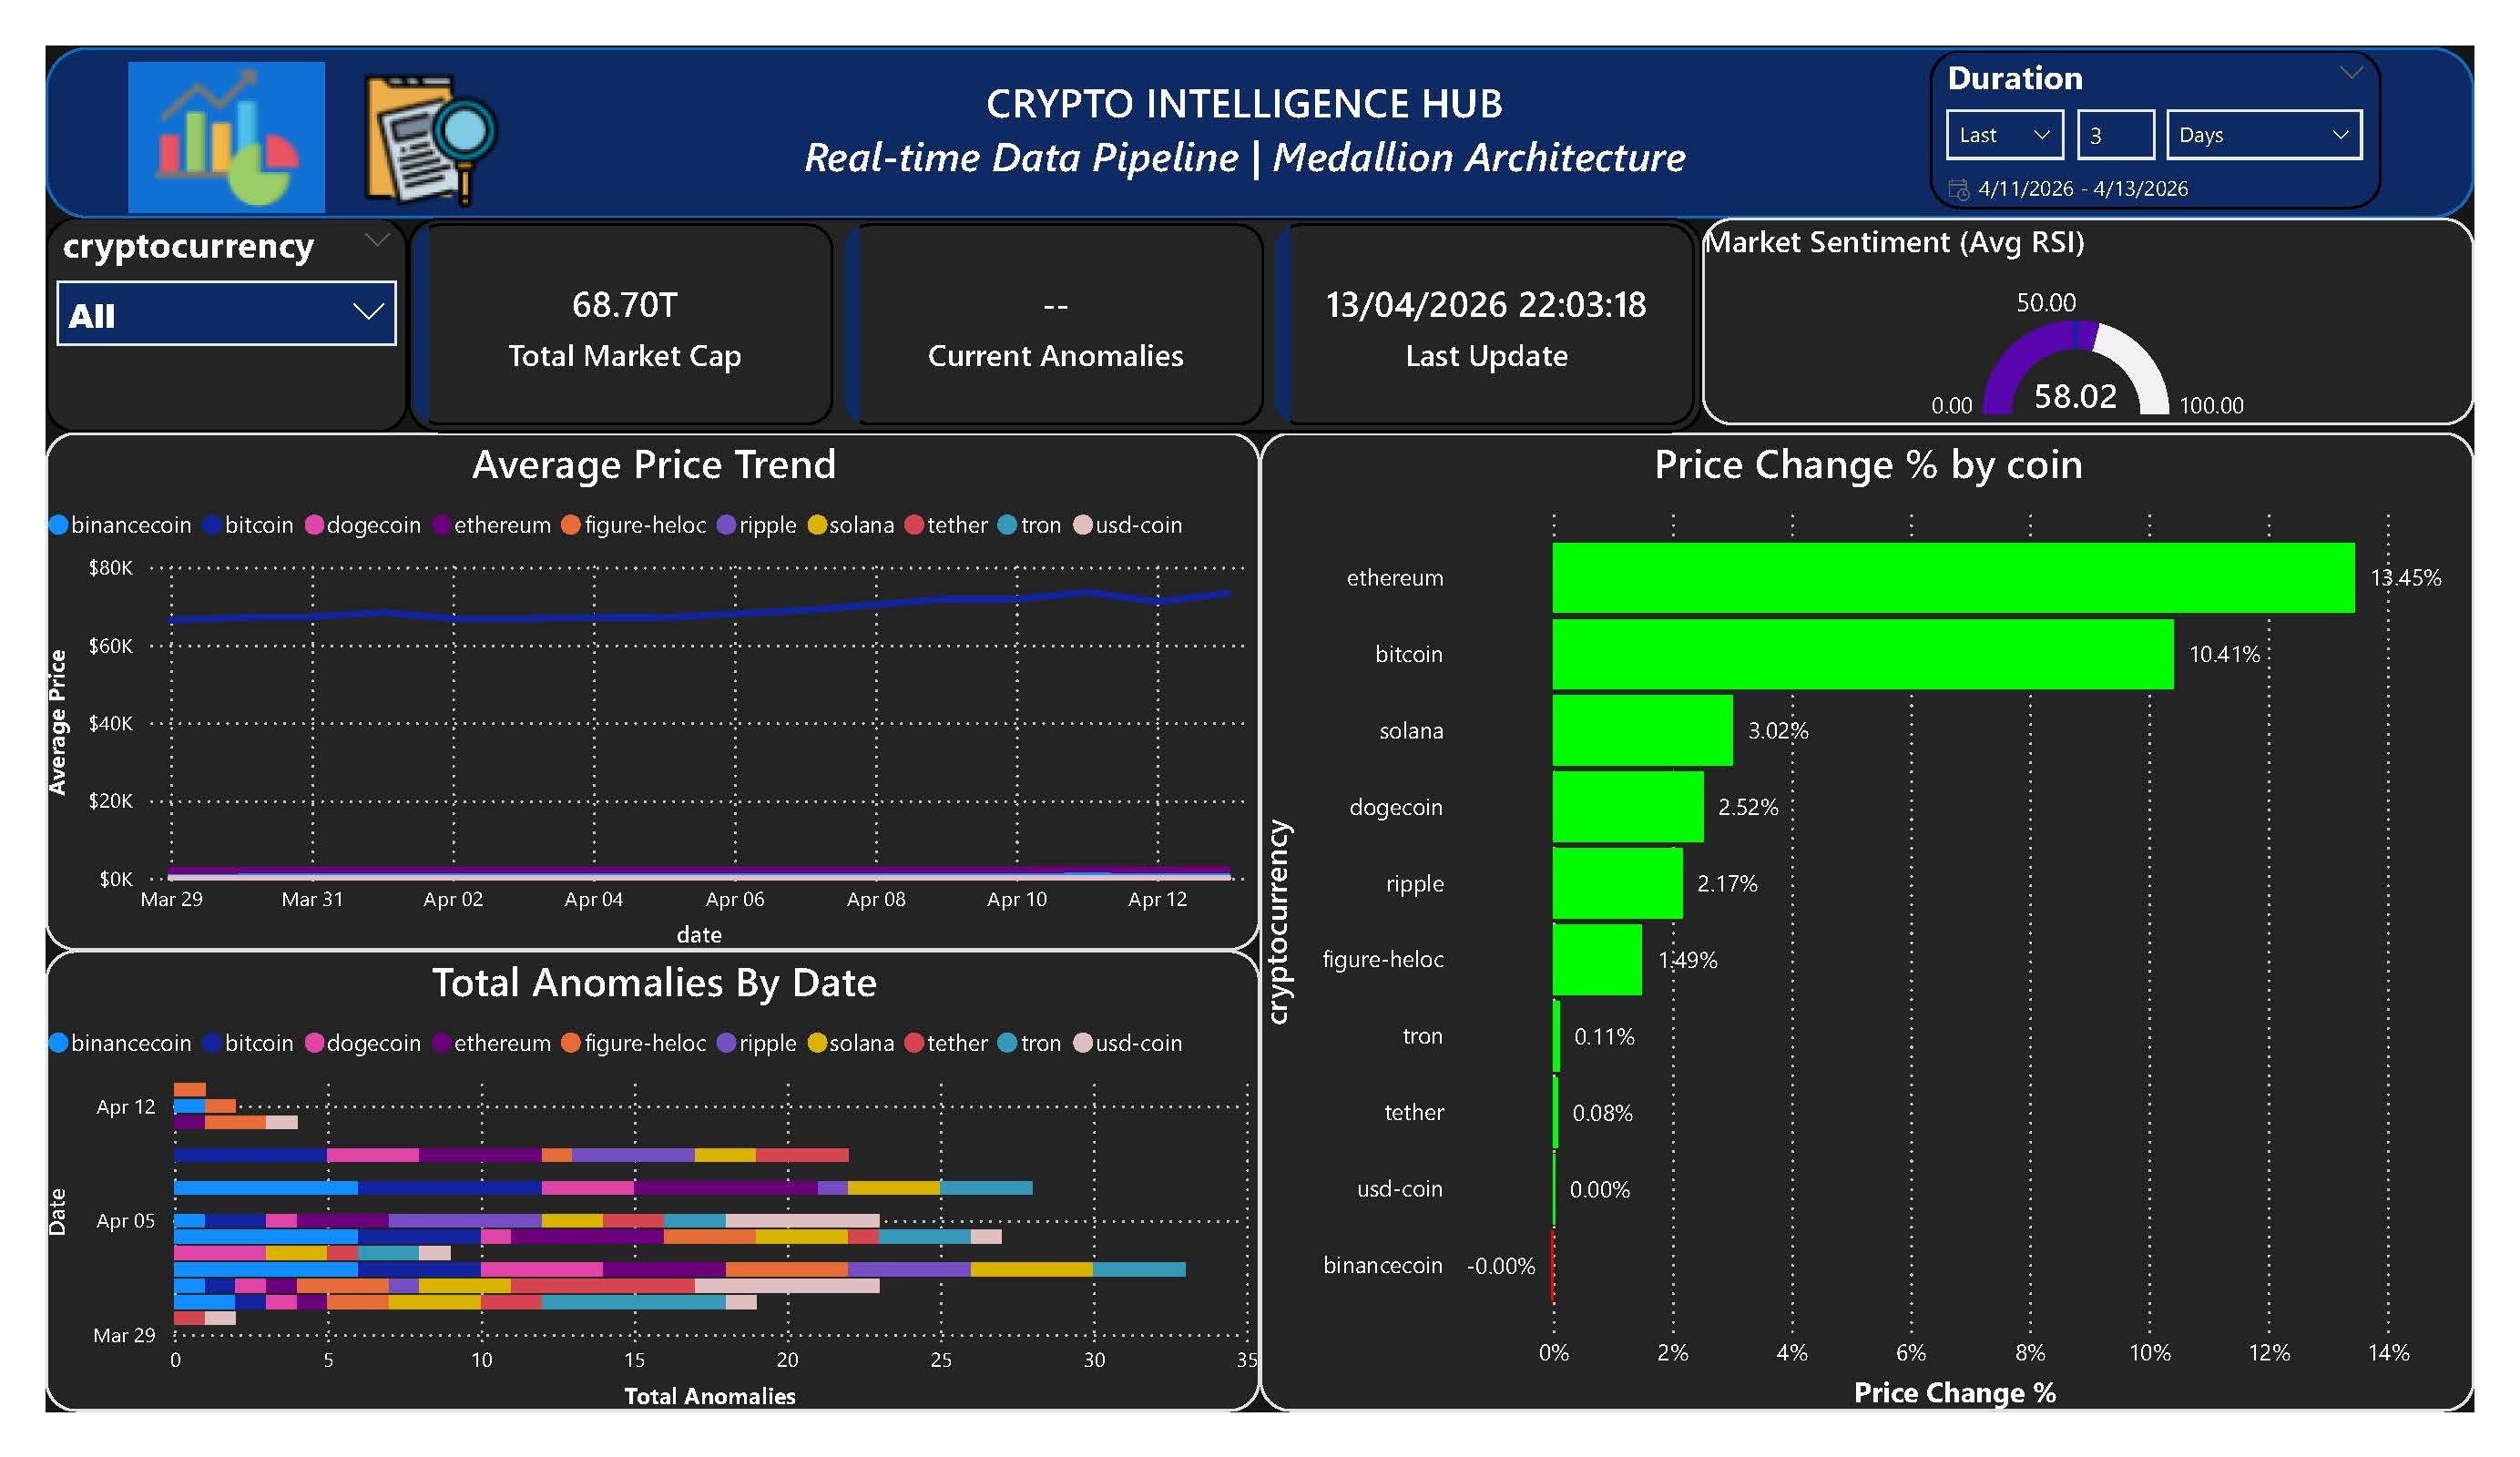

This screenshot's page, from the dashboard's own definition file:
{"tool":"powerbi","page":{"name":"Page 1","canvas":[1280,720],"ordinal":0},"visuals":[{"type":"slicer","fields":{"Values":["public dim_crypto_prices.coin"]},"box":[0,91.4,191.4,112.9],"z":0},{"type":"lineChart","title":"Average Price Trend","fields":{"Category":["public gold_fact_daily_summary.date"],"Y":["Sum(public gold_fact_daily_summary.avg_price)"],"Series":["public gold_fact_daily_summary.coin"]},"box":[0,204.3,640,272.9],"z":1000},{"type":"barChart","title":"Total Anomalies By Date","fields":{"Y":["Sum(public gold_fact_daily_summary.total_anomalies)"],"Category":["public gold_fact_daily_summary.date"],"Series":["public gold_fact_daily_summary.coin"]},"box":[0,477.1,640,242.9],"z":2000},{"type":"shape","box":[0,1.4,1280,90],"z":3000},{"type":"textbox","box":[354.3,10,555.7,72.9],"z":4000},{"type":"slicer","title":"Duration","fields":{"Values":["public gold_fact_signals.timestamp"]},"box":[992.9,2.9,238.6,82.9],"z":5000},{"type":"clusteredBarChart","fields":{"Category":["public gold_fact_daily_summary.coin"],"Y":["public gold_fact_daily_summary.Price Change %"]},"box":[640,204.3,640,515.7],"z":6000},{"type":"gauge","title":"Market Sentiment (Avg RSI) ","fields":{"Y":["Avg(public gold_fact_signals.rsi)"]},"box":[872.9,91.4,407.1,108.6],"z":7000},{"type":"cardVisual","fields":{"Data":["public dim_crypto_prices.Total Market Cap","public gold_fact_signals.Active Alerts","public gold_fact_signals.Last Update"]},"box":[191.4,91.4,681.4,112.9],"z":8000},{"type":"actionButton","box":[43.9,8.5,103.5,79.4],"z":9000},{"type":"actionButton","box":[161.6,12.8,82.2,75.1],"z":10000}]}

Visuals, with their boxes on the page's 1280x720 design canvas (x1, y1, x2, y2). These are canvas units, not pixel positions in the 2520x1457 screenshot, which may show the page scaled, cropped or inside an application window:
slicer - public dim_crypto_prices.coin: l=0, t=91, r=191, b=204
"Average Price Trend" lineChart: l=0, t=204, r=640, b=477
"Total Anomalies By Date" barChart: l=0, t=477, r=640, b=720
shape: l=0, t=1, r=1280, b=91
textbox: l=354, t=10, r=910, b=83
"Duration" slicer: l=993, t=3, r=1232, b=86
clusteredBarChart - public gold_fact_daily_summary.coin x public gold_fact_daily_summary.Price Change %: l=640, t=204, r=1280, b=720
"Market Sentiment (Avg RSI) " gauge: l=873, t=91, r=1280, b=200
cardVisual - public dim_crypto_prices.Total Market Cap x public gold_fact_signals.Active Alerts: l=191, t=91, r=873, b=204
actionButton: l=44, t=8, r=147, b=88
actionButton: l=162, t=13, r=244, b=88
